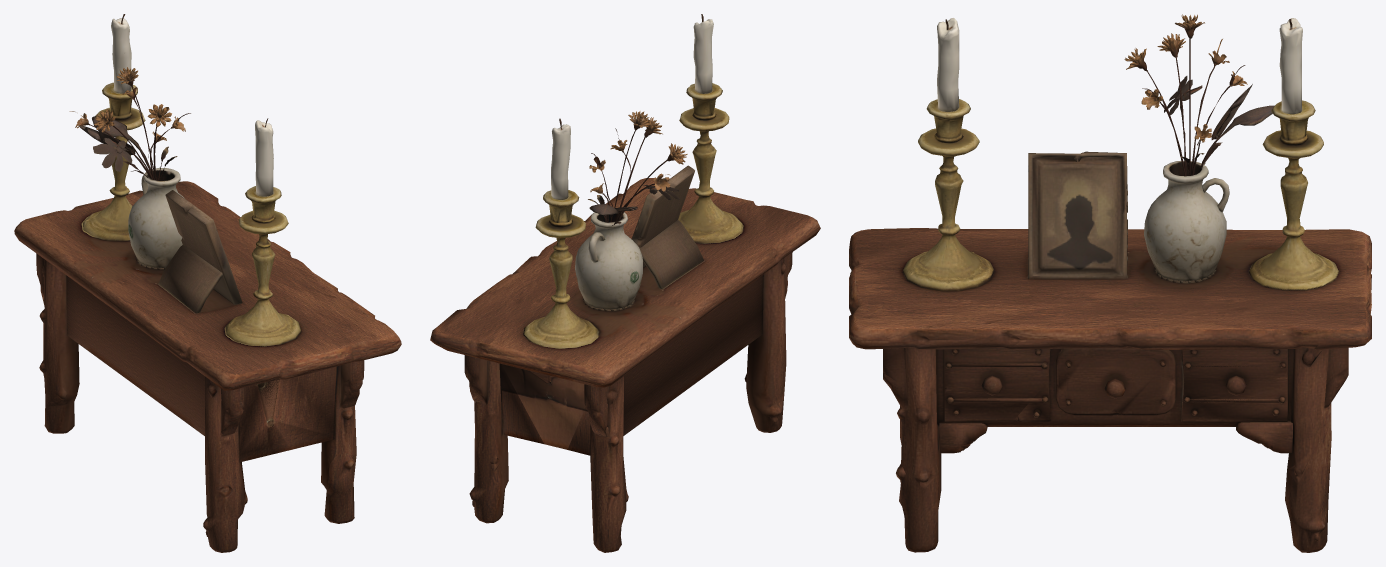
3 renders of one model, left to right at view 1: azimuth 30°, elevation 25°; view 2: azimuth 150°, elevation 25°; view 3: azimuth 270°, elevation 25°, orthographic. The views are drawn at different scales.
Visible parts, largest first — view 1: tripo_node_ea108200-14c9-4f6f-801b-d479a234a13e; view 2: tripo_node_ea108200-14c9-4f6f-801b-d479a234a13e; view 3: tripo_node_ea108200-14c9-4f6f-801b-d479a234a13e.
Boxes of the visible parts, left/top/right/bottom form: tripo_node_ea108200-14c9-4f6f-801b-d479a234a13e: left=14, top=14, right=401, bottom=552; tripo_node_ea108200-14c9-4f6f-801b-d479a234a13e: left=430, top=14, right=820, bottom=552; tripo_node_ea108200-14c9-4f6f-801b-d479a234a13e: left=849, top=14, right=1371, bottom=552.
Size of the model in its own units: 0.4707 by 0.998 by 0.9629.
1 material, 1 textured.
